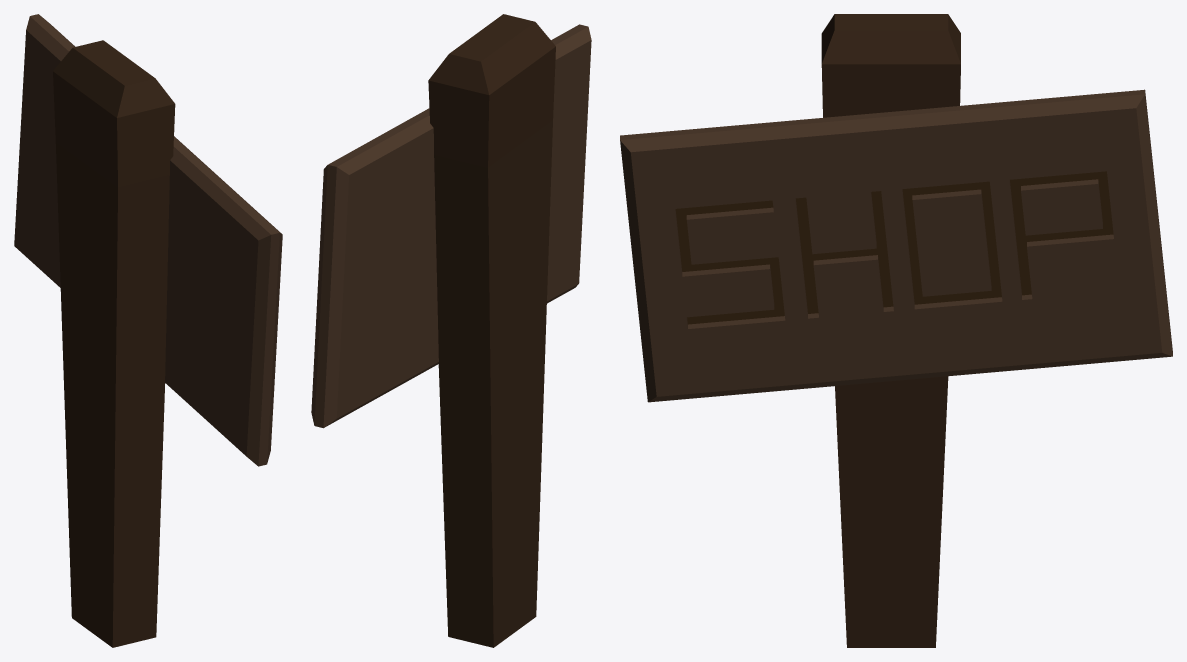
File: shopSign.fbx
The picture shows the model from 3 angles, left to right: view 1: azimuth 30°, elevation 25°; view 2: azimuth 150°, elevation 25°; view 3: azimuth 270°, elevation 25°; orthographic projection. The views are drawn at different scales.
Parts seen in each view (by area): view 1: Sign; view 2: Sign; view 3: Sign.
Part boxes in pixels (x1,y1,x2,y2): Sign: [14, 14, 282, 647]; Sign: [311, 14, 591, 647]; Sign: [620, 14, 1172, 647].
Size of the model in its own units: 28.93 by 200 by 163.
